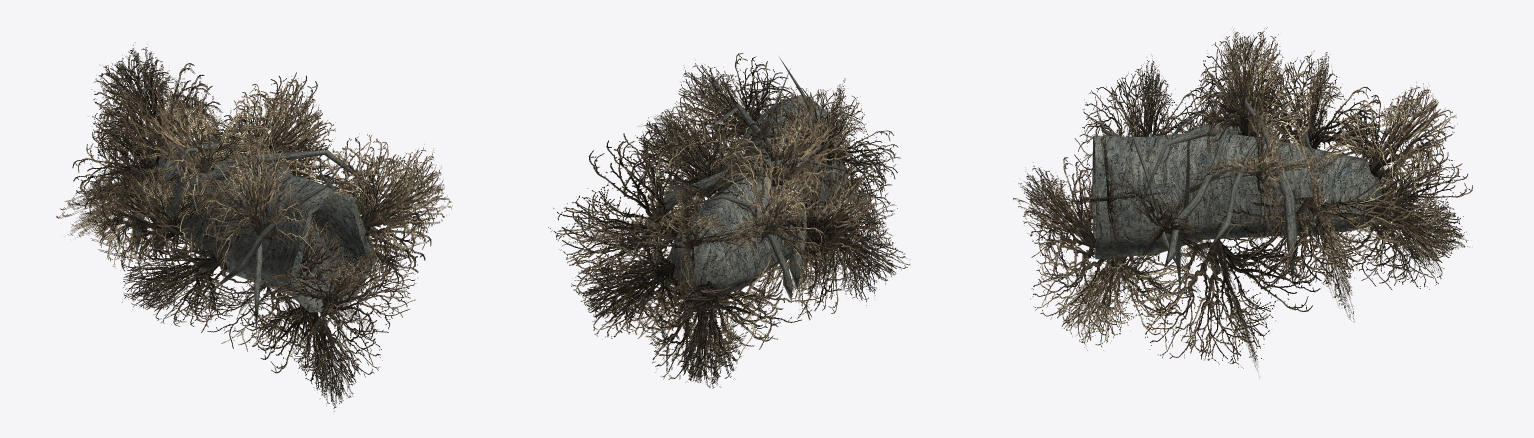
Rendered from poi_all_lair_bramble_large_l0.fbx.
The picture shows the model from 3 angles, left to right: view 1: azimuth 30°, elevation 25°; view 2: azimuth 150°, elevation 25°; view 3: azimuth 270°, elevation 25°; orthographic projection. The views are drawn at different scales.
Parts seen in each view (by area): view 1: mesh_node; view 2: mesh_node; view 3: mesh_node.
Boxes of the visible parts, <box> form: mesh_node: <box>56,42,452,411</box>; mesh_node: <box>548,53,909,388</box>; mesh_node: <box>1013,27,1472,376</box>.
Bounding box in the file's own units: 6.22 × 6.04 × 8.42.
Materials: 2 (2 with a texture image).
